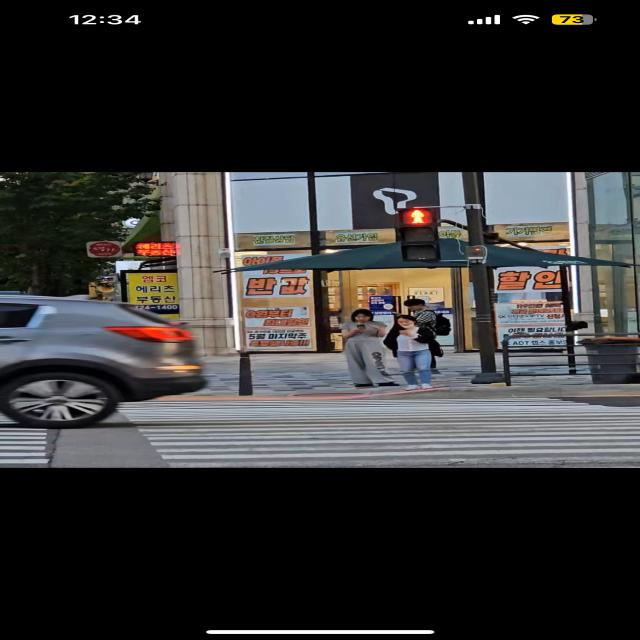red_light: (394, 206, 456, 266)
zebra: (0, 378, 640, 466)
